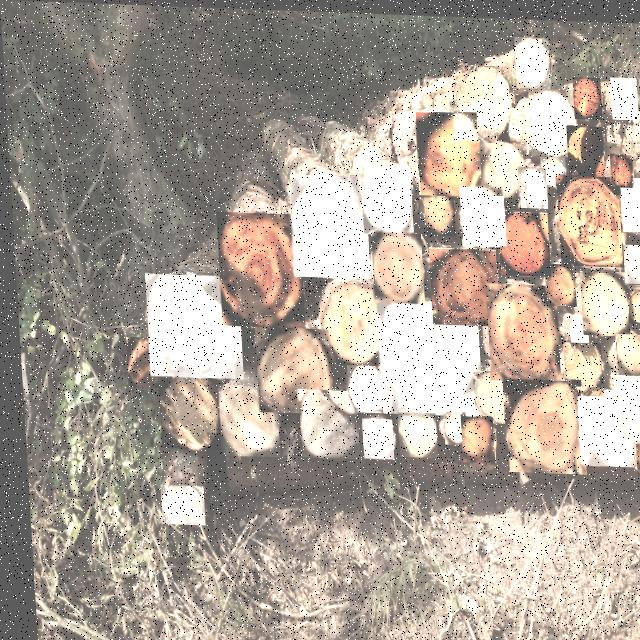wood-log: (375, 298, 476, 412), (143, 274, 238, 376), (217, 212, 299, 325), (290, 173, 366, 275), (502, 377, 578, 469), (484, 280, 555, 378), (254, 326, 328, 412), (556, 173, 621, 263), (317, 281, 383, 363), (429, 246, 496, 322), (417, 111, 479, 193), (453, 62, 512, 137), (155, 377, 214, 448), (574, 385, 628, 461), (215, 384, 273, 454), (295, 388, 354, 456), (359, 163, 410, 231), (371, 230, 420, 300), (496, 209, 547, 272), (528, 86, 576, 152), (578, 268, 626, 331), (459, 184, 502, 242), (480, 140, 522, 193), (470, 369, 511, 420), (123, 337, 163, 387), (560, 339, 598, 391), (566, 122, 602, 173), (344, 361, 381, 410), (393, 410, 432, 454), (515, 34, 549, 84), (155, 485, 198, 523), (457, 414, 489, 459), (542, 260, 573, 302), (625, 356, 640, 439), (610, 73, 637, 115), (422, 193, 451, 232), (358, 417, 387, 455), (619, 174, 640, 226), (613, 330, 640, 370), (574, 73, 600, 114), (519, 164, 545, 204), (439, 409, 462, 441), (609, 150, 631, 183), (621, 241, 640, 278), (540, 153, 563, 182), (625, 285, 640, 319), (567, 311, 584, 338), (631, 433, 640, 470), (611, 371, 625, 392)
